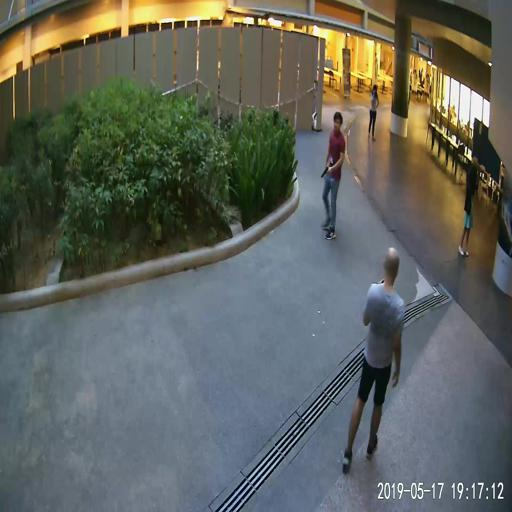pistol: (321, 166, 329, 177)
